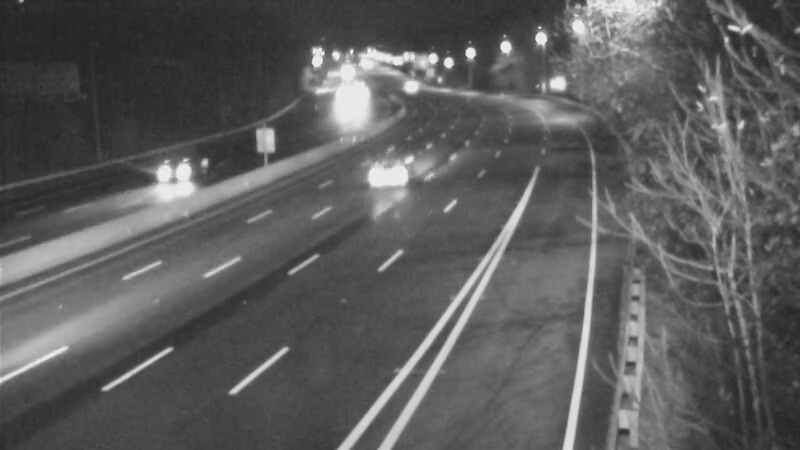vehicle: (347, 135, 427, 215), (143, 130, 223, 210), (384, 59, 434, 109), (320, 88, 370, 138)
